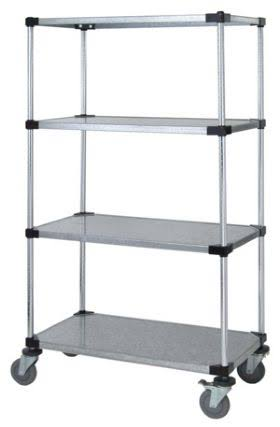Carts: (12, 10, 271, 419)
